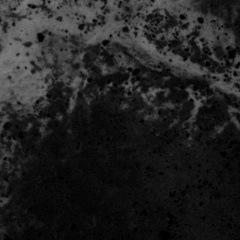Vegetation: (141, 1, 240, 73), (1, 1, 47, 114), (49, 2, 139, 55), (48, 54, 86, 88), (188, 89, 209, 123), (212, 73, 240, 94)
